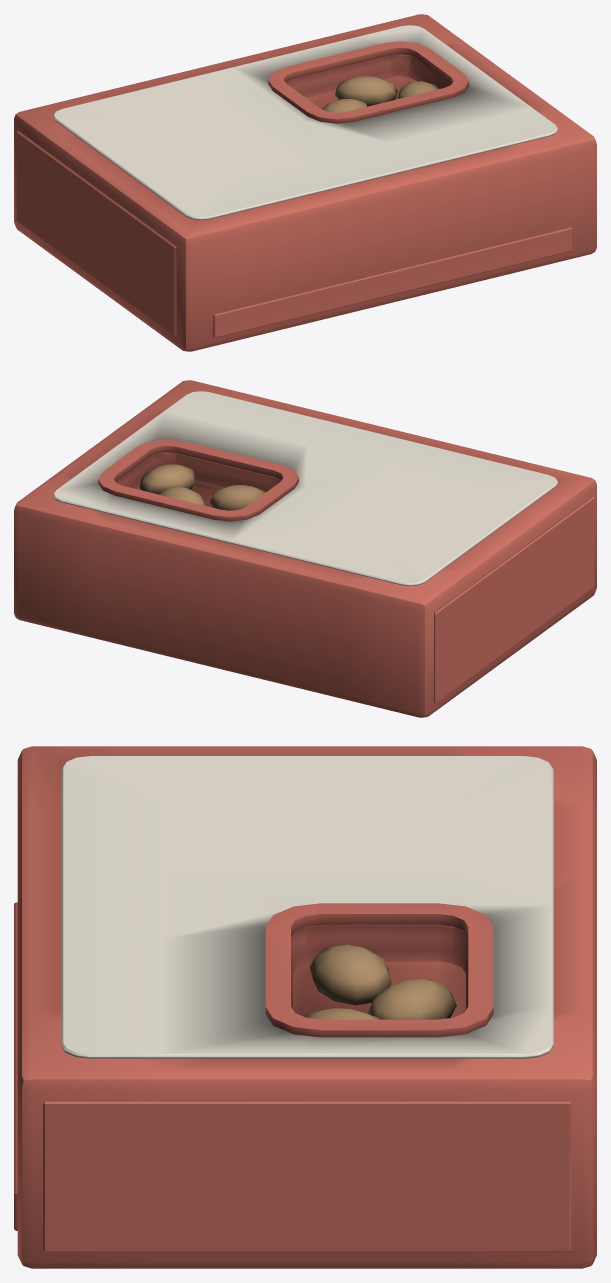
File: food_nuggets.glb
3 renders of one model, top to bottom at view 1: azimuth 30°, elevation 25°; view 2: azimuth 150°, elevation 25°; view 3: azimuth 270°, elevation 25°, orthographic. The views are drawn at different scales.
Visible parts, largest first — view 1: PART; view 2: PART; view 3: PART.
Part boxes in pixels (box(x1,y1,x2,y2)): PART: box(14, 14, 596, 351); PART: box(14, 380, 596, 717); PART: box(14, 746, 596, 1268).
Size of the model in its own units: 0.2224 by 0.0634 by 0.161.
